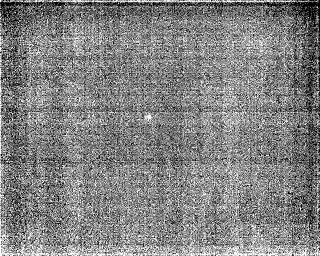BIRD: (144, 111, 154, 123)
